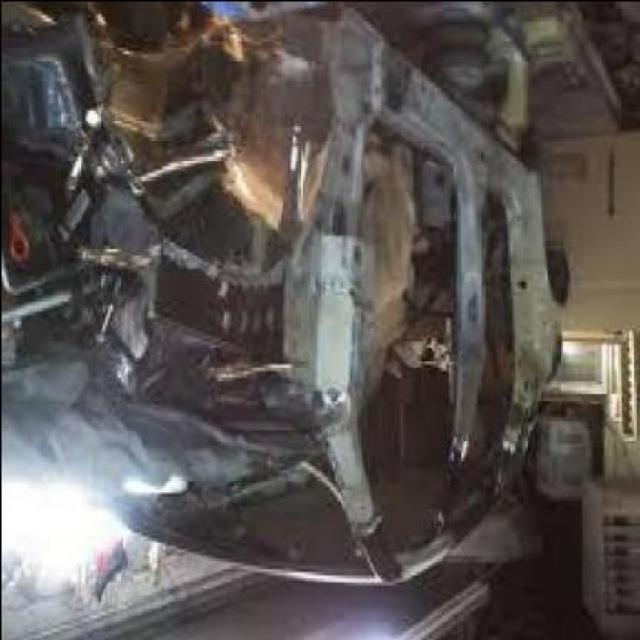damage: (2, 6, 553, 580)
